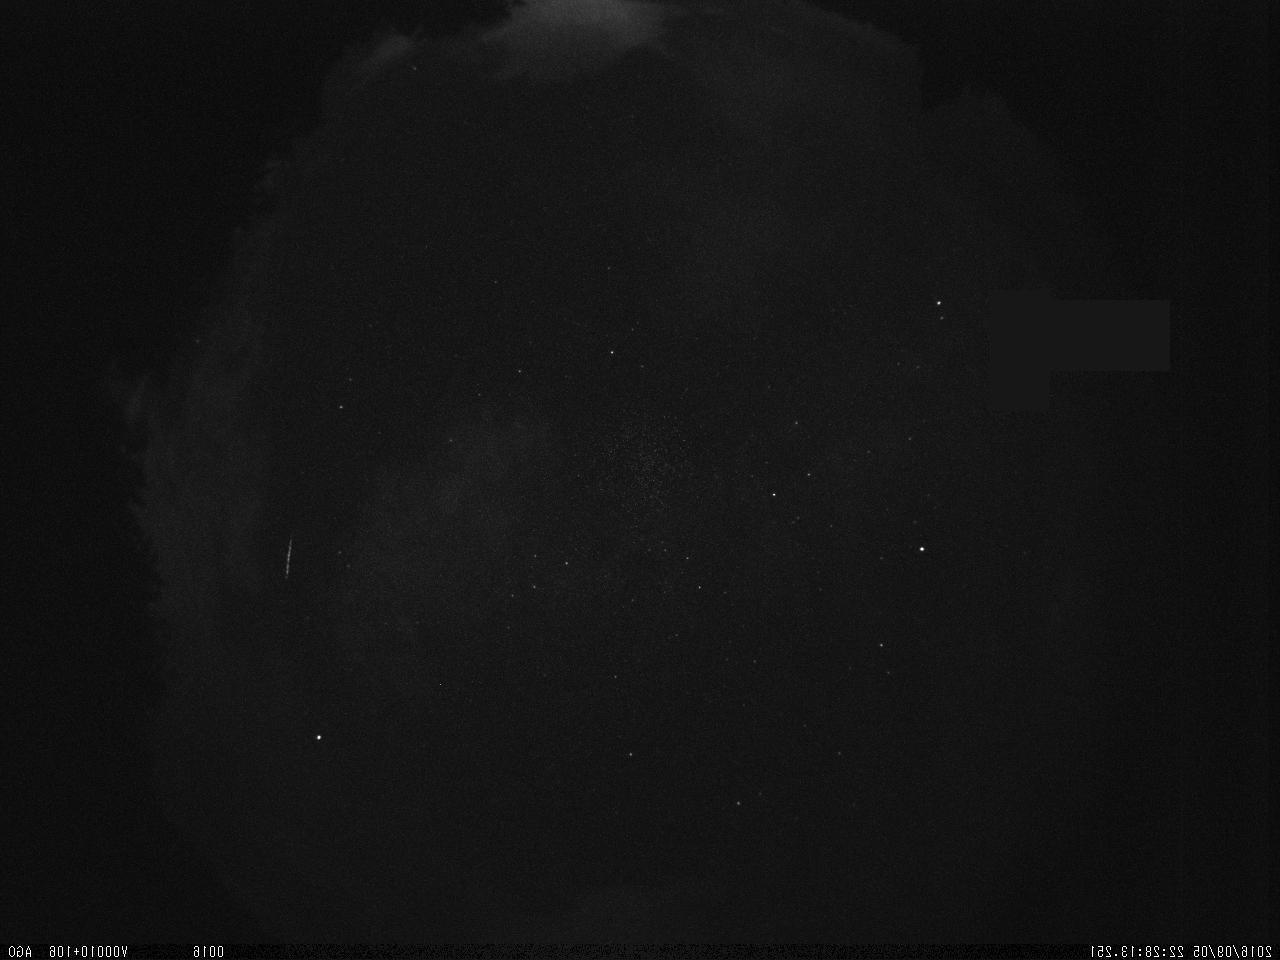meteor: (280, 528, 298, 587)
